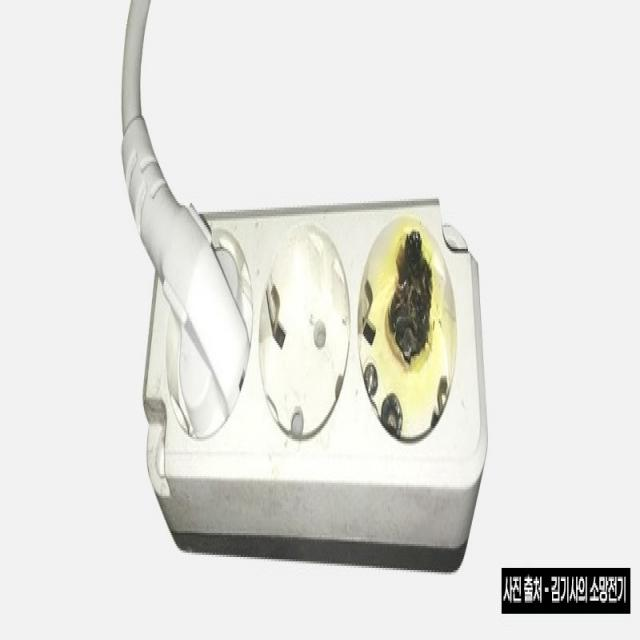typeb: (103, 100, 357, 572)
